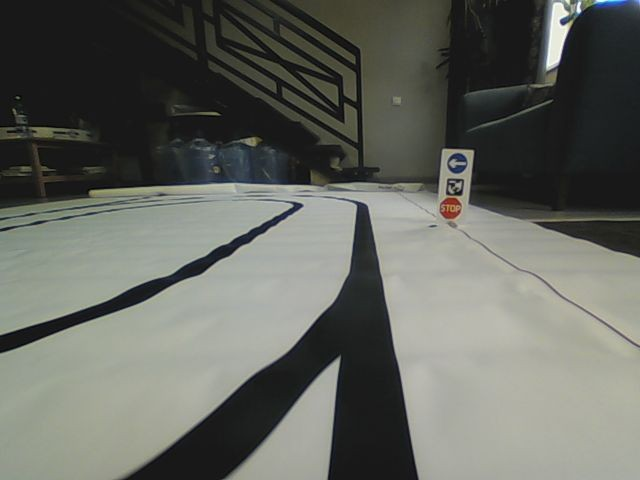Stop: (439, 197, 463, 220)
